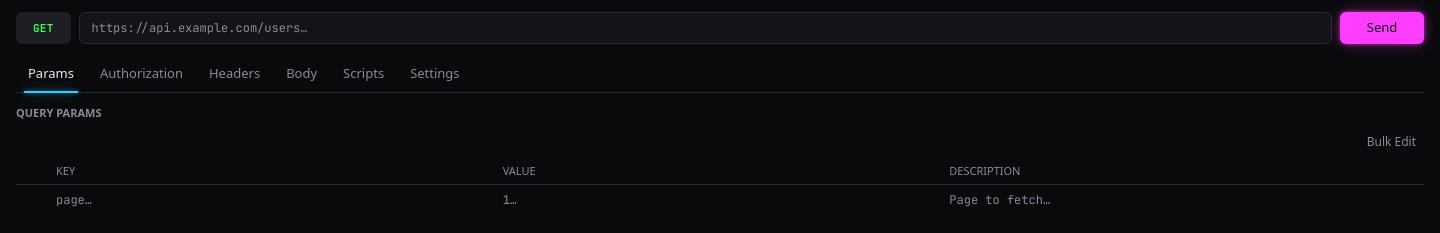
RequestBuilder › hides the auto headers by default and says how many are hidden
The image size is (1440, 233).
Click the tab "Headers" at (235, 74), box [197,56,272,92]
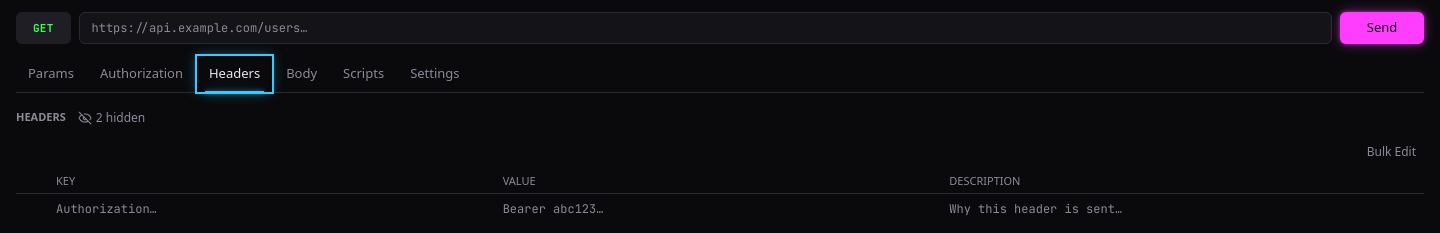
Now the button with aria-label "Show auto-generated headers" reads "2 hidden", box [70,104,153,130]
